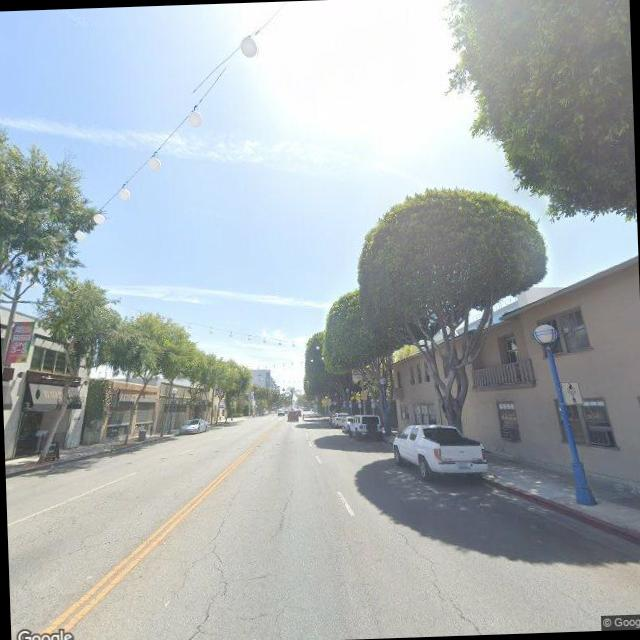pothole: (383, 511, 504, 637), (163, 490, 246, 640), (268, 473, 298, 536)
